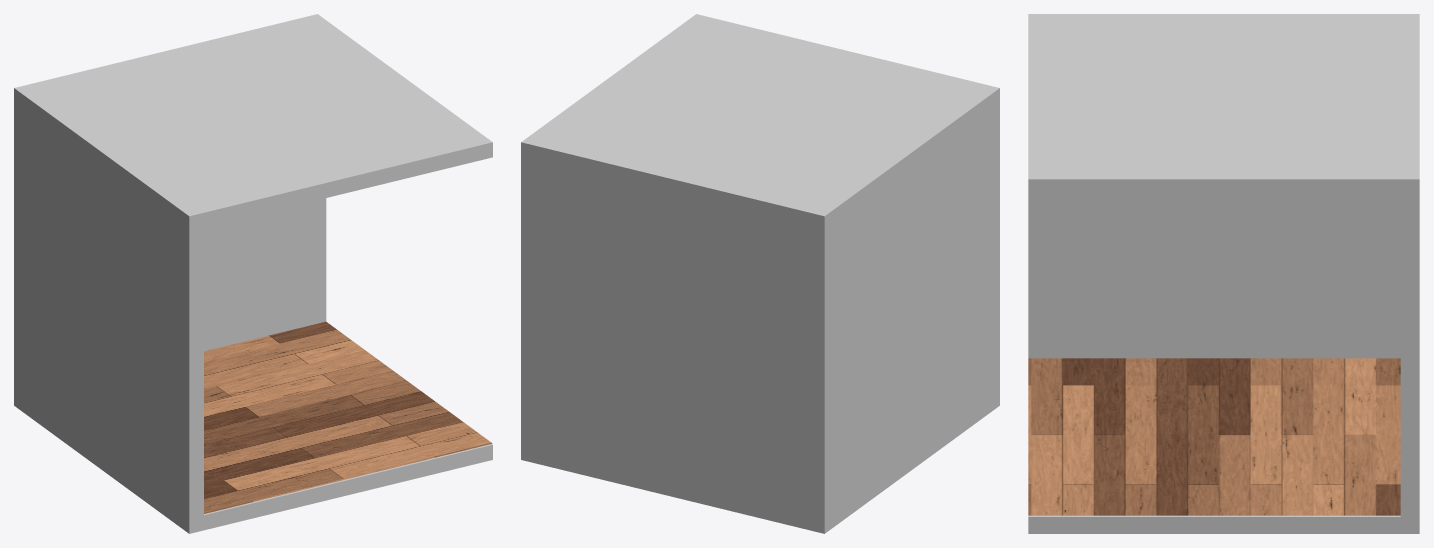
Rendered from LastStopBrewing.glb.
3 renders of one model, left to right at view 1: azimuth 30°, elevation 25°; view 2: azimuth 150°, elevation 25°; view 3: azimuth 270°, elevation 25°, orthographic. The views are drawn at different scales.
Parts seen in each view (by area): view 1: Building, Floor; view 2: Building; view 3: Building, Floor.
Part boxes in pixels (bbox=[...]): Building: bbox=[14, 14, 492, 533]; Floor: bbox=[204, 321, 492, 513]; Building: bbox=[521, 14, 999, 533]; Building: bbox=[1028, 14, 1419, 533]; Floor: bbox=[1028, 358, 1400, 515].
Size of the model in its own units: 2.55 by 2.55 by 2.55.
1 material, 1 textured.
